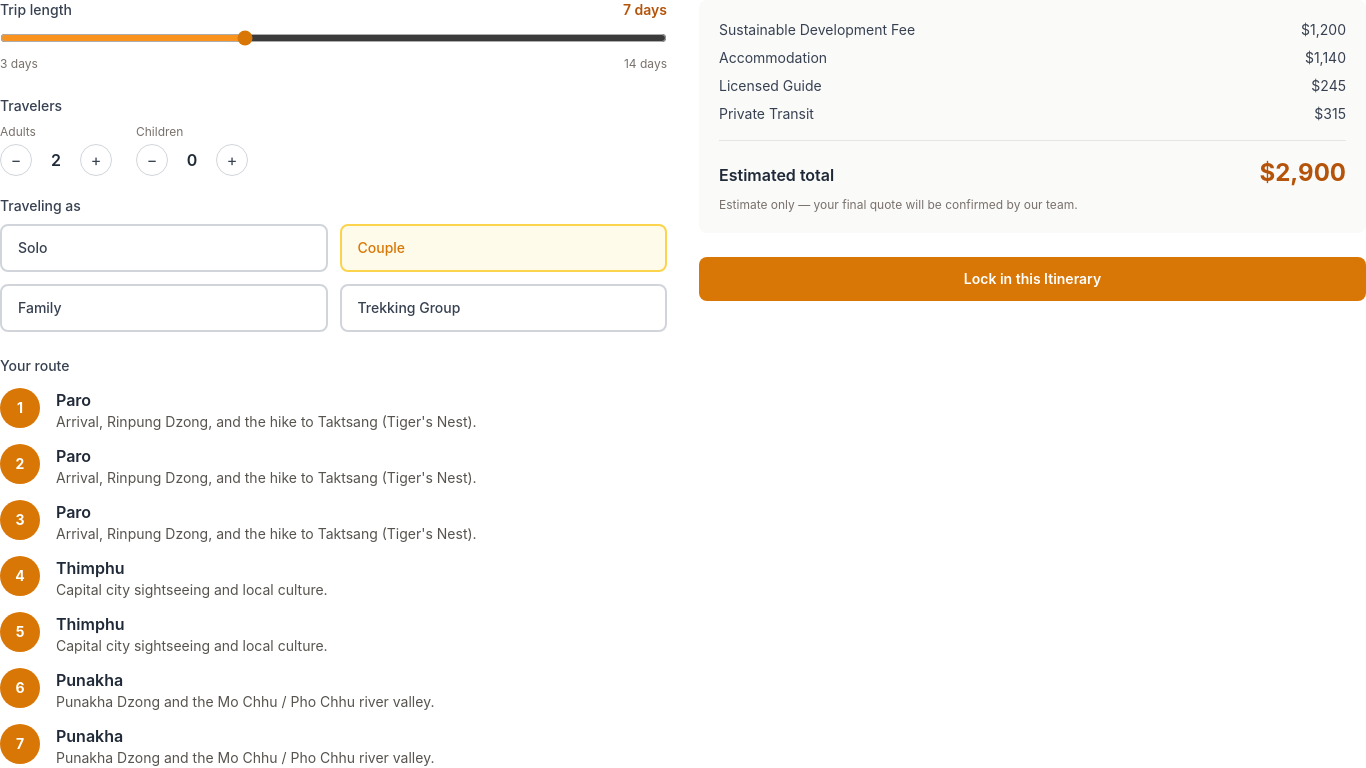
Test: JourneyArchitect › opens the lock-in drawer when the CTA is clicked
Click the button "Lock in this Itinerary" at (1032, 279), box [699,257,1365,301]
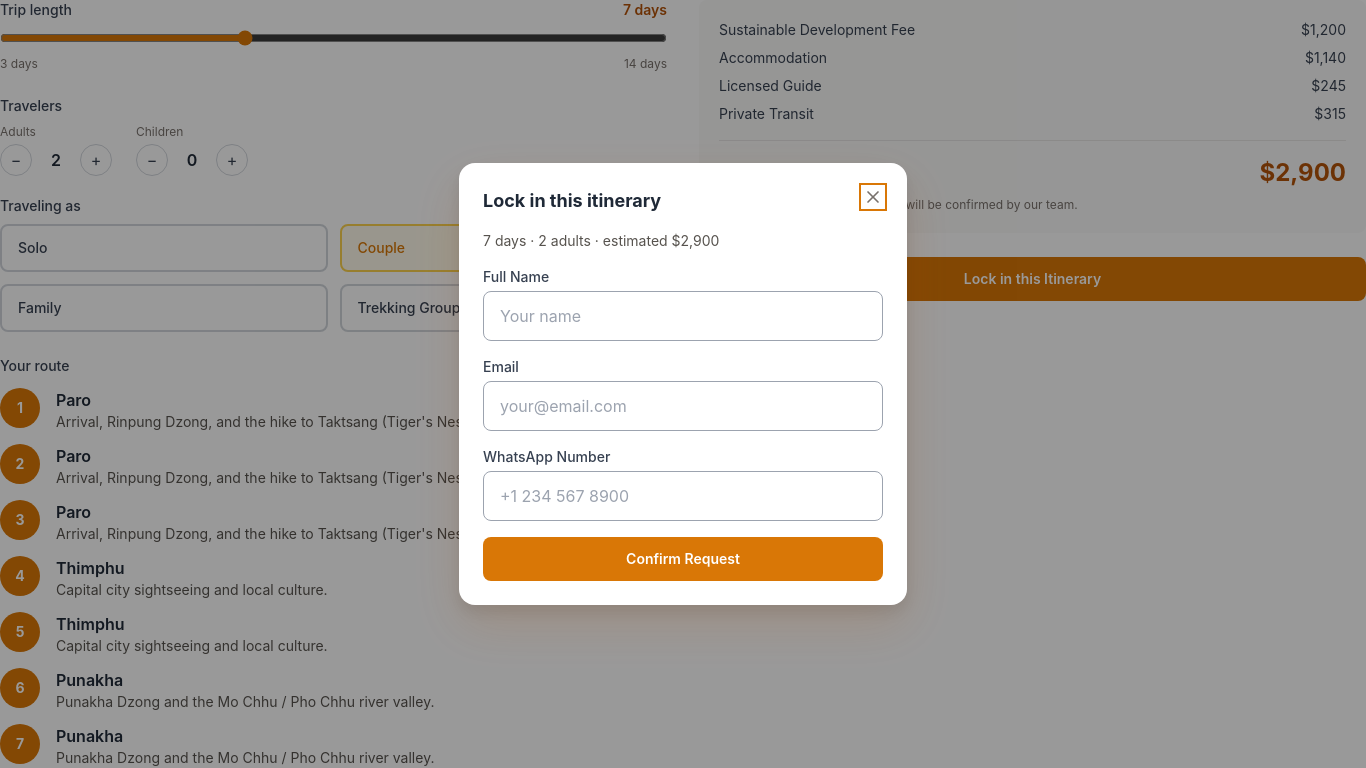
Expected: the heading "Lock in this itinerary" is shown, [483,187,661,215]
